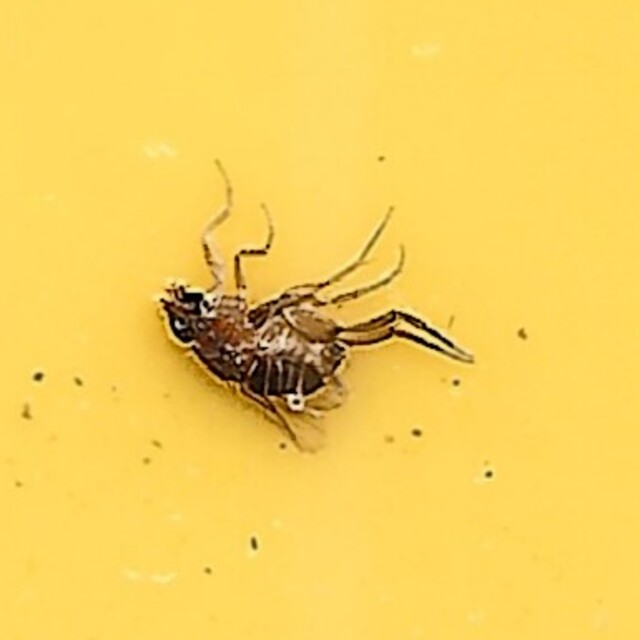Brachycera: (166, 187, 474, 453)
